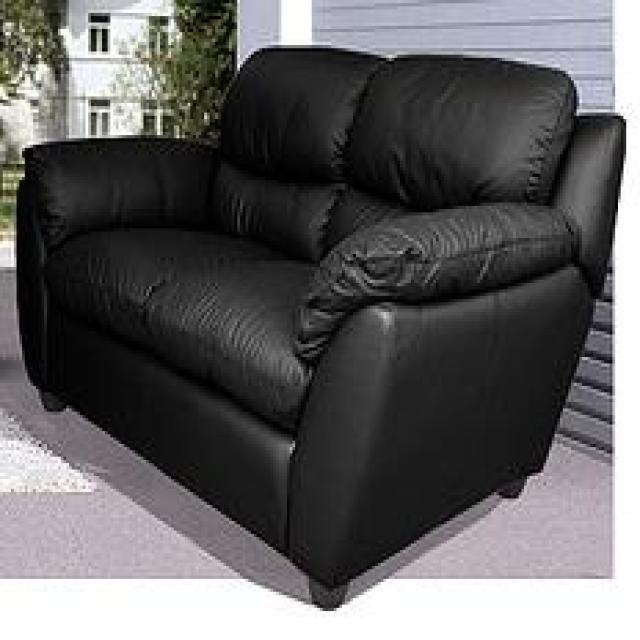sofa: (15, 42, 625, 615)
